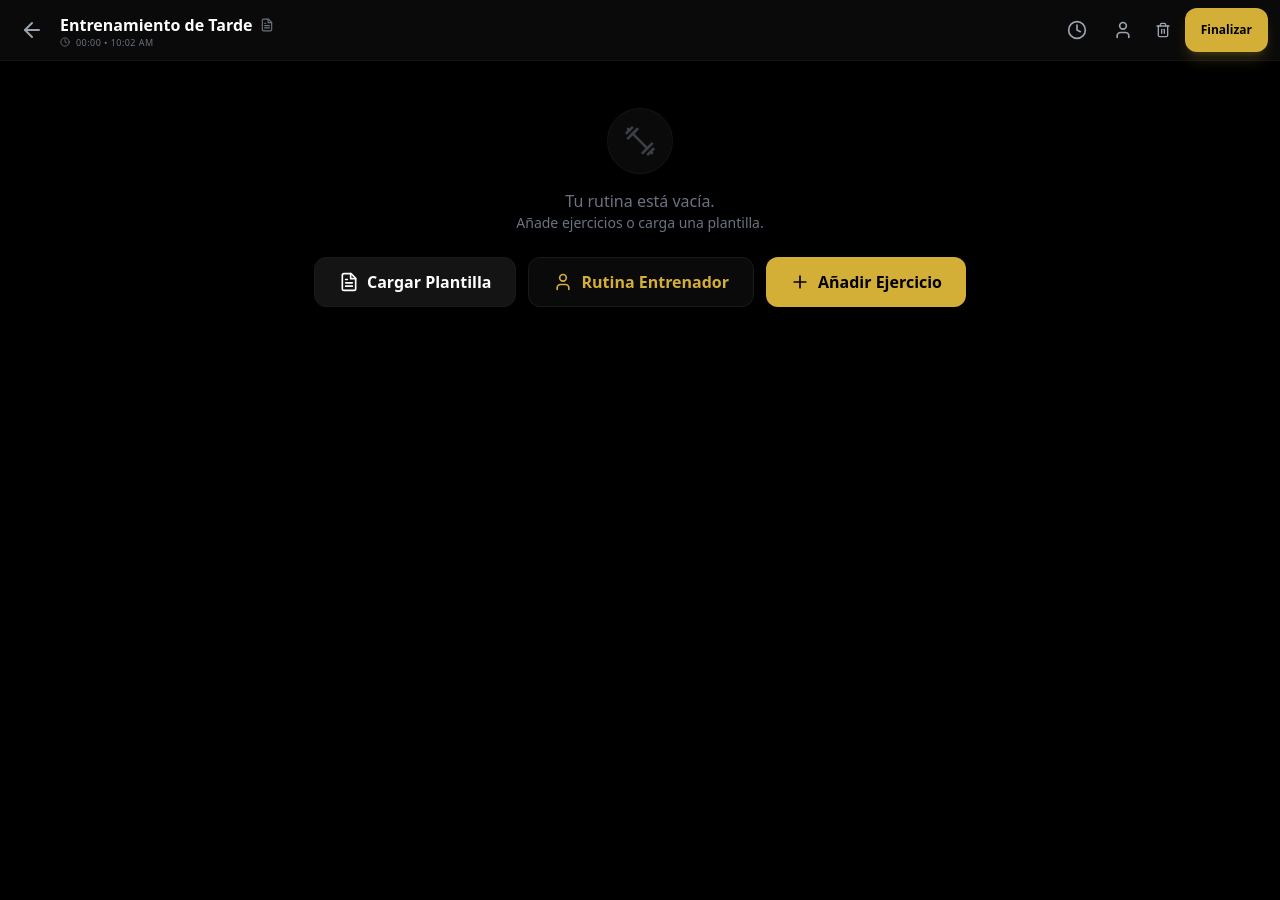
Test case: WorkoutEditor › deletes block if last exercise is removed
# Add 1 exercise (Block uuid-0)
Click the button with test id "btn-add-block": [866, 282] box [766,257,966,307]
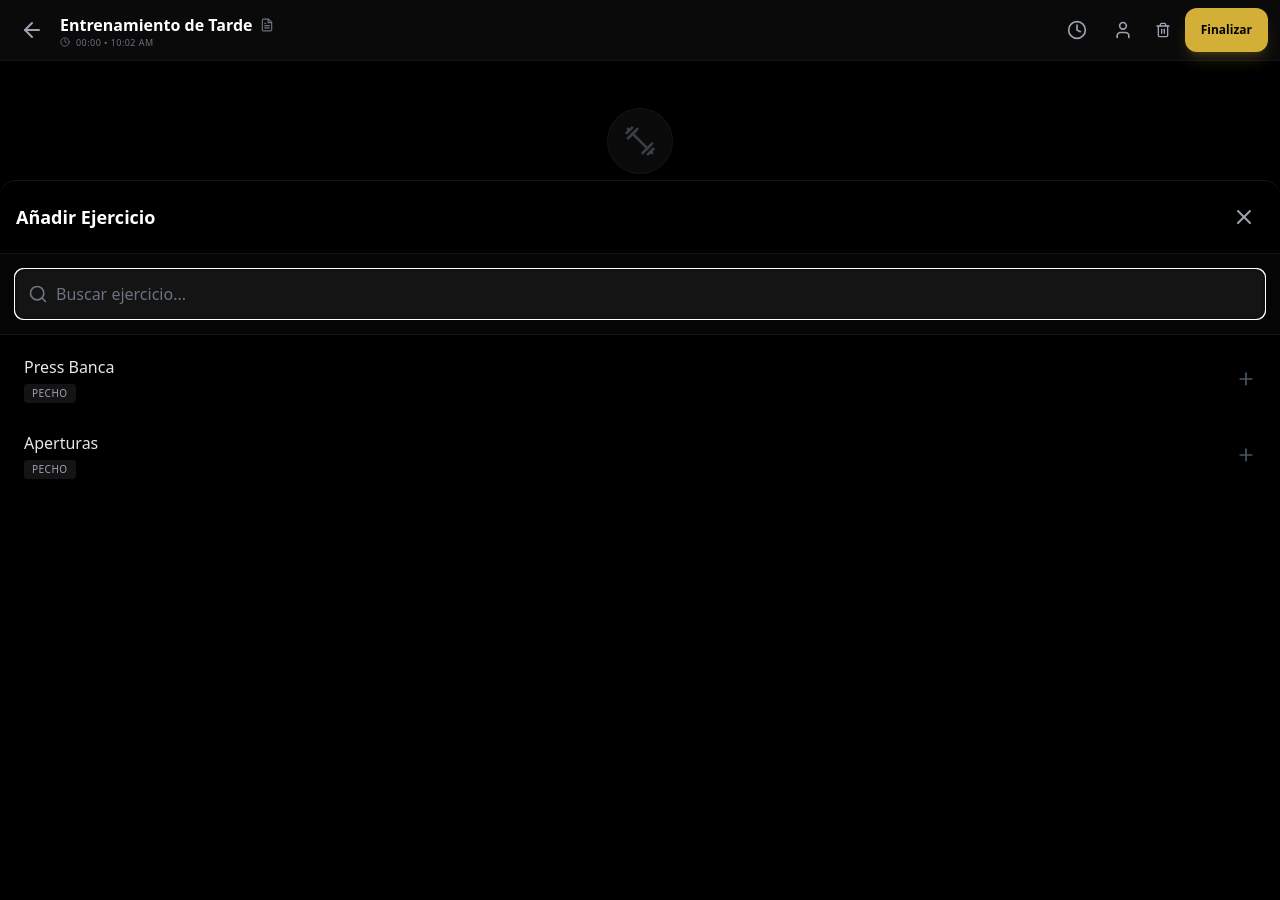
Click the button with test id "exercise-item-ex-1": [69, 367] box [8,343,1272,415]
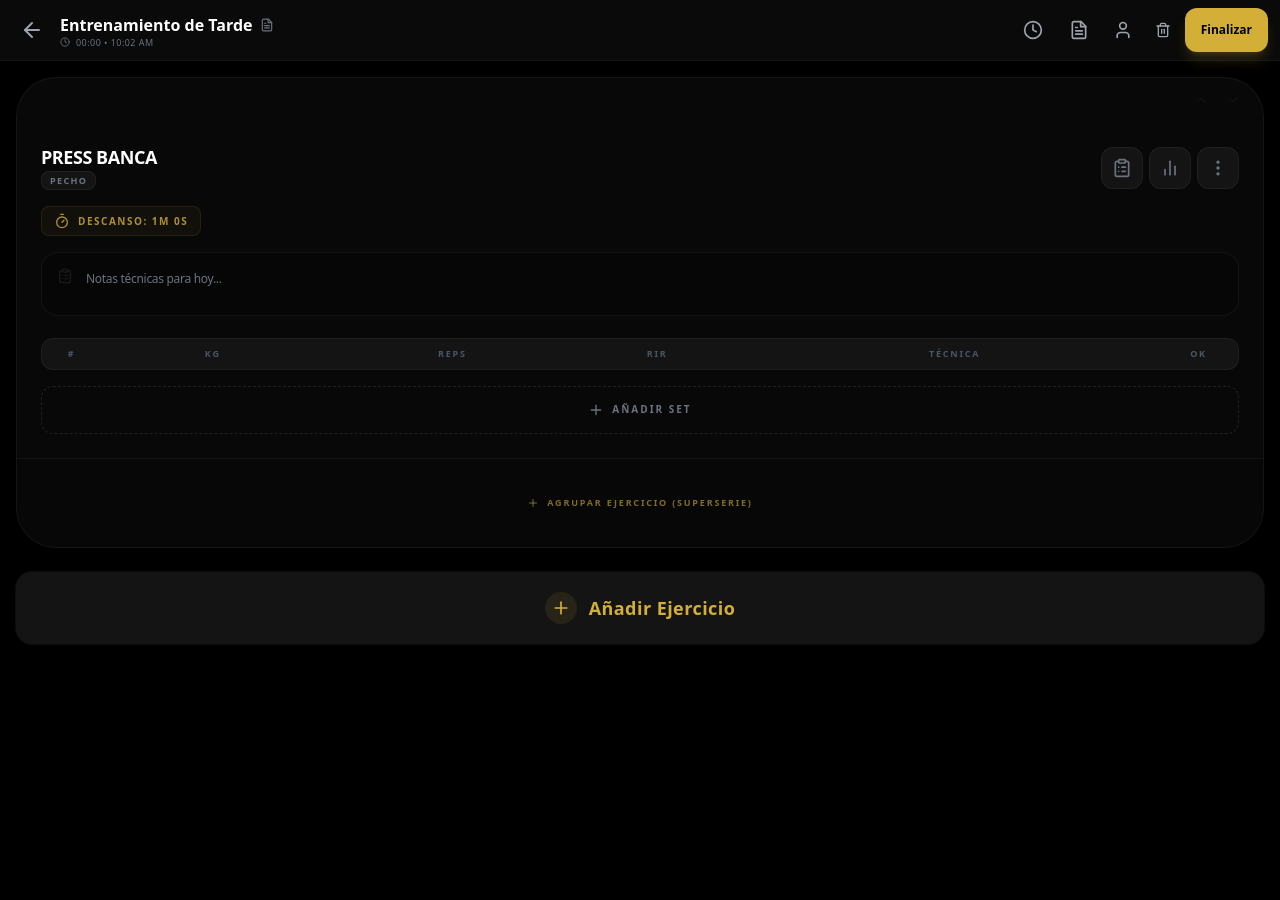
# Open Kebab Menu for the first exercise (index 0) in block uuid-0
Click the button with test id "exercise-kebab-menu-uuid-0-0": [1218, 168] box [1197,147,1239,189]
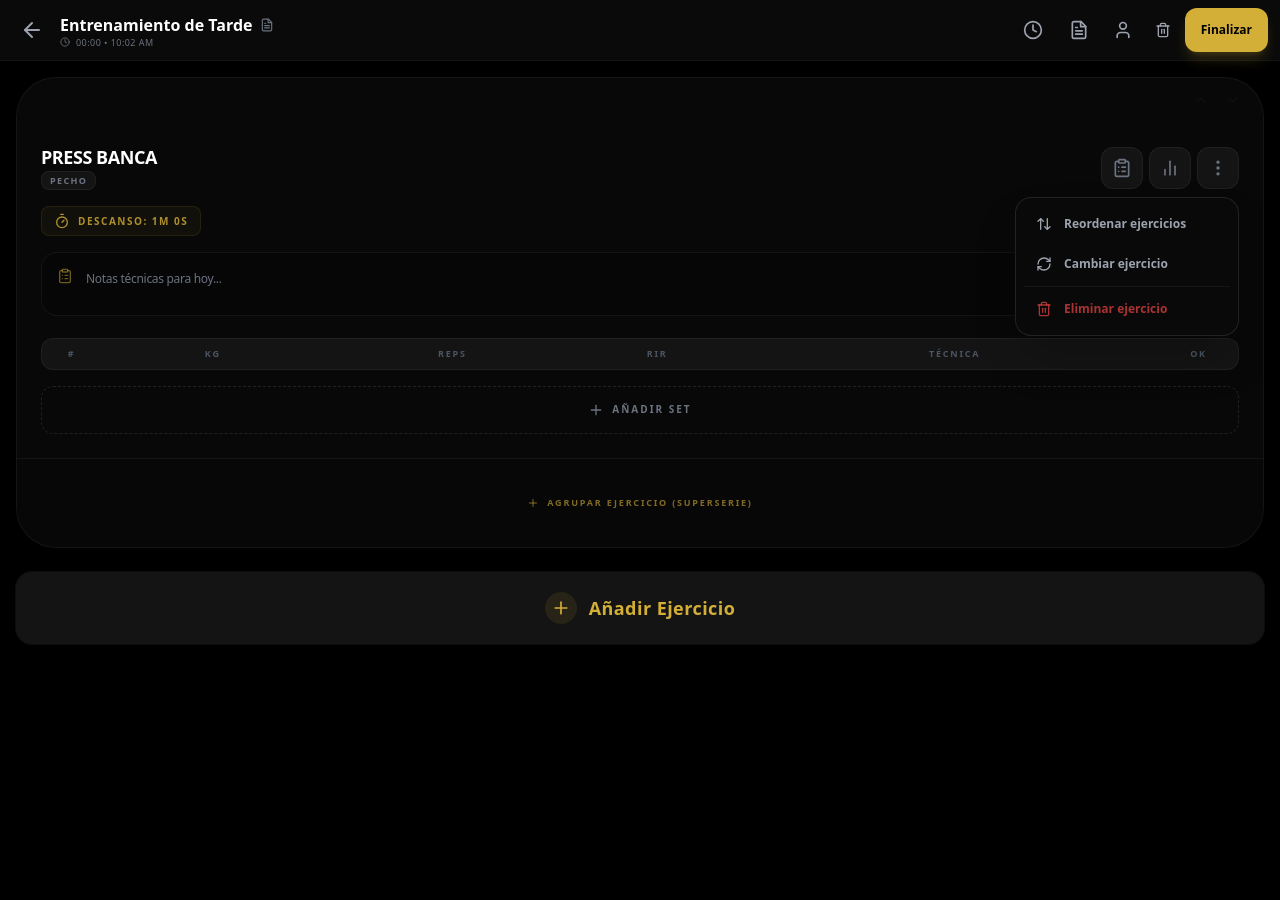
# Remove it
Click the menu item "Eliminar ejercicio": [1127, 309] box [1024,291,1230,327]
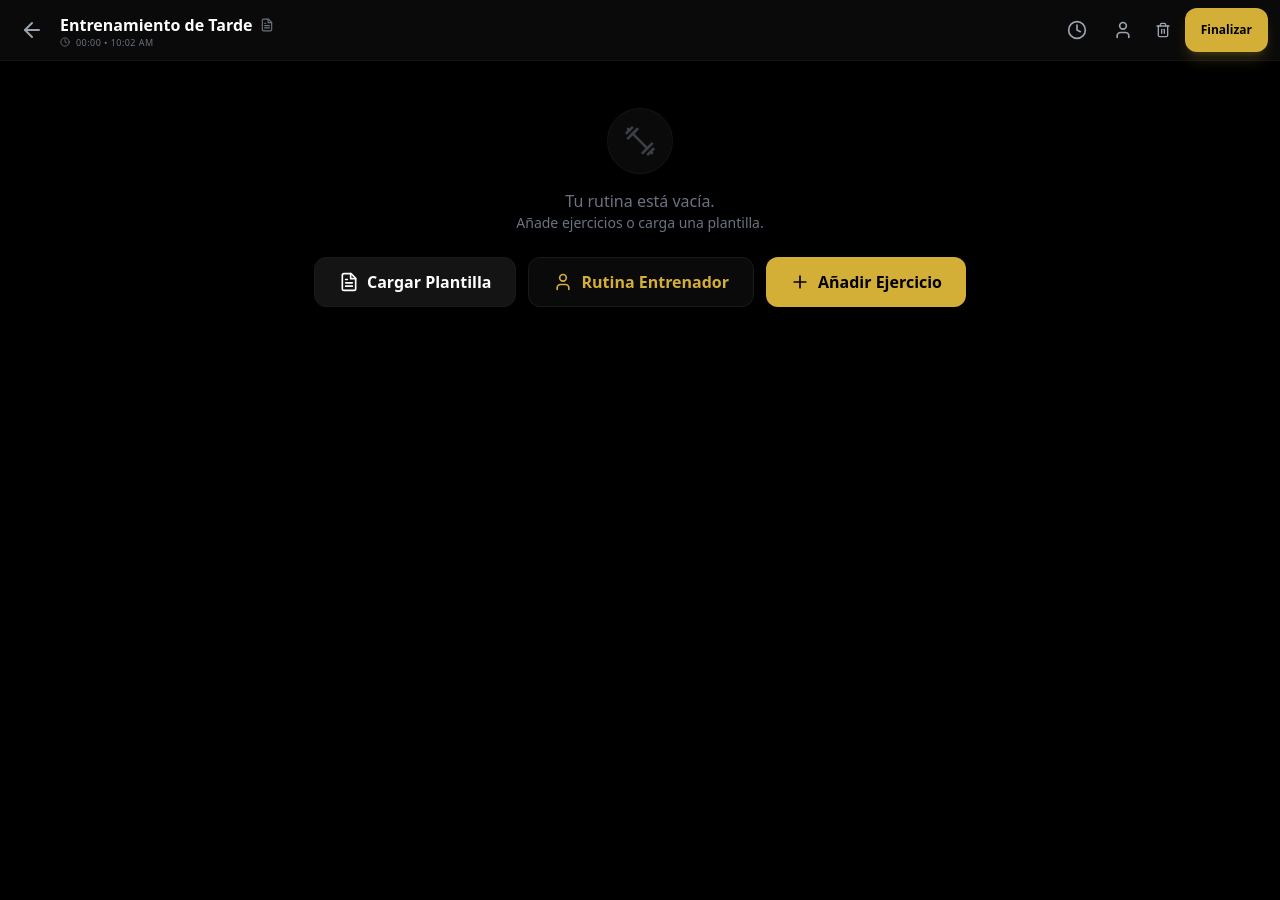
Check: the text "Tu rutina está vacía." is shown, box [565,189,715,213]
